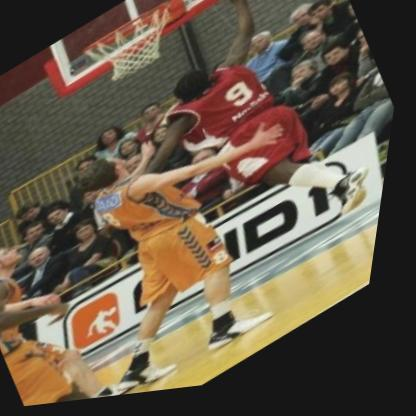basketball: (172, 0, 236, 3)
rim: (82, 0, 192, 97)
